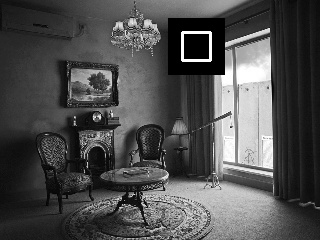square: (169, 18, 224, 75)
